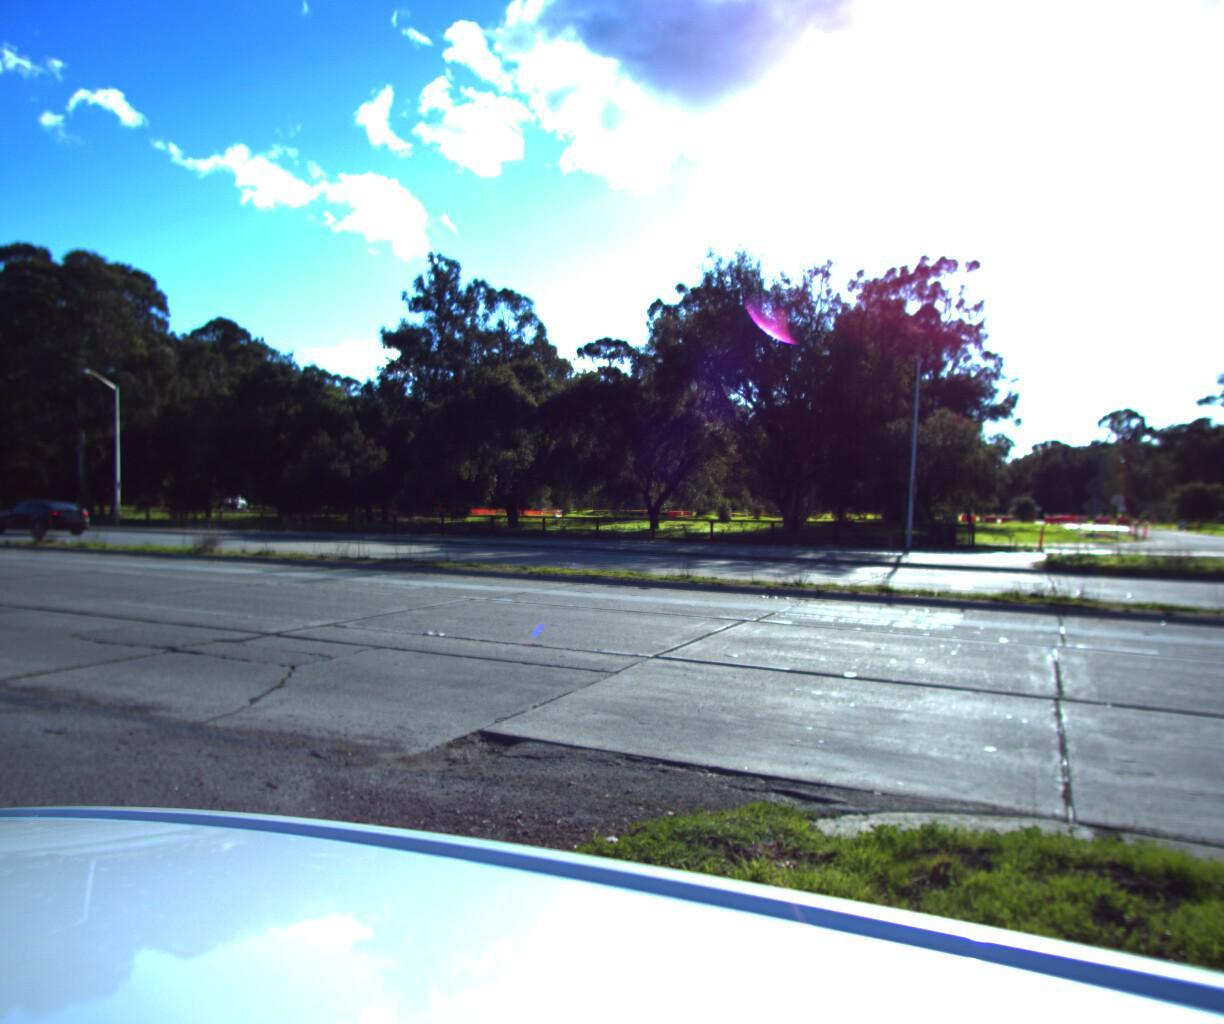car: (0, 495, 95, 531)
